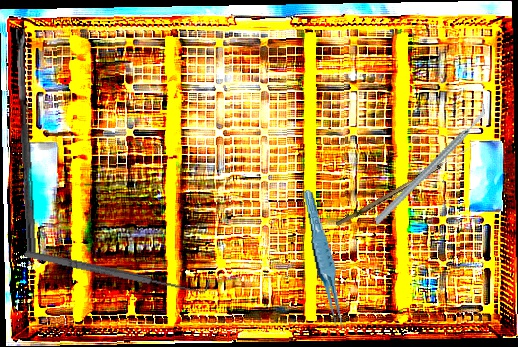Chopper: (349, 102, 511, 226)
Hook Surgical: (22, 241, 212, 299)
Surgical Spoon: (335, 140, 478, 230), (15, 28, 38, 258)
Tissue Forceps: (302, 187, 346, 336)
